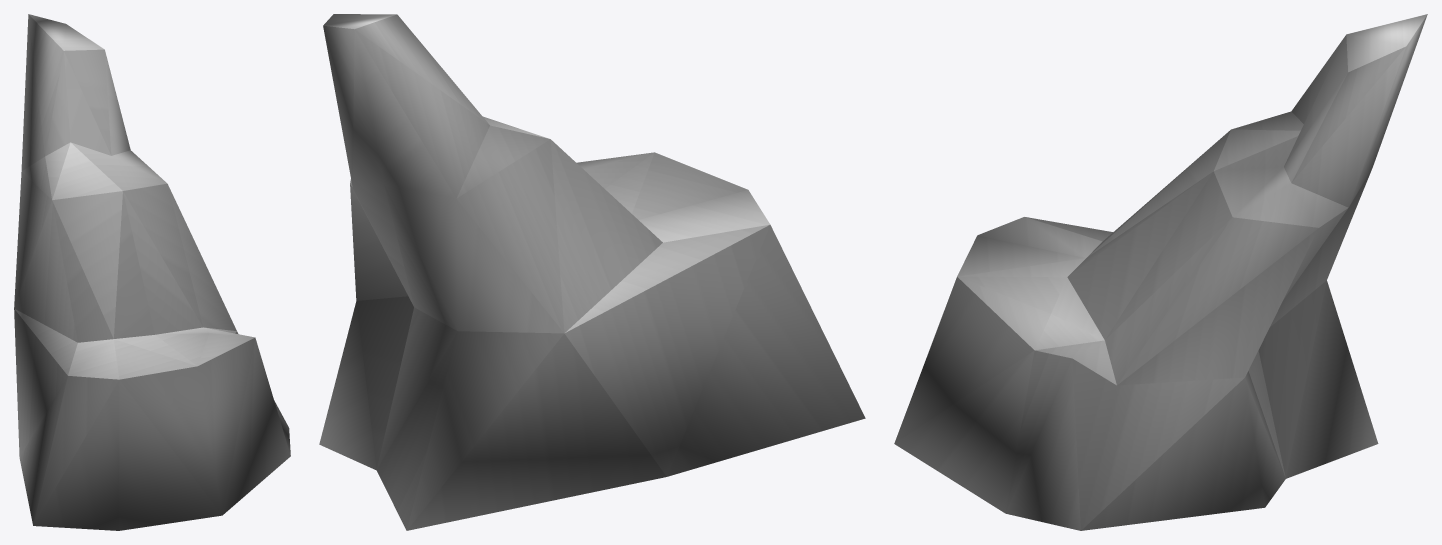
Rendered from GL-Rock-04.fbx.
3 views of the same model, side by side, from view 1: azimuth 30°, elevation 25°; view 2: azimuth 150°, elevation 25°; view 3: azimuth 270°, elevation 25° (orthographic). The views are drawn at different scales.
Visible parts, largest first — view 1: GL-Rock-04; view 2: GL-Rock-04; view 3: GL-Rock-04.
Part boxes in pixels (x1=…): GL-Rock-04: x1=14, y1=14, x2=290, y2=530; GL-Rock-04: x1=319, y1=14, x2=865, y2=530; GL-Rock-04: x1=894, y1=14, x2=1427, y2=530.
Bounding box in the file's own units: 2.44 × 2.74 × 3.02.
